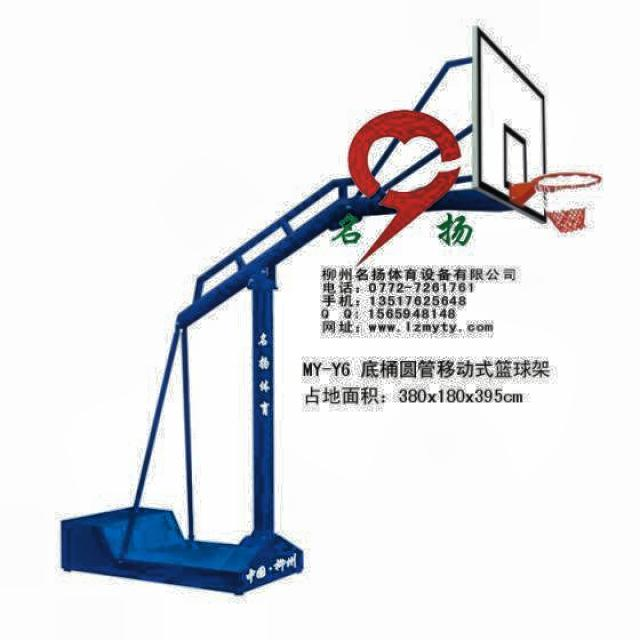rim: (536, 170, 601, 232)
